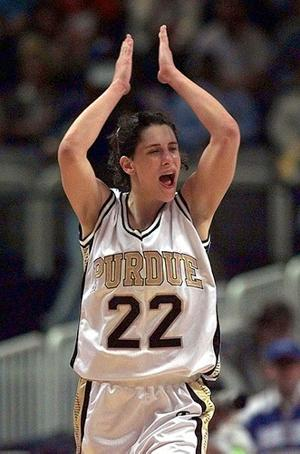person: (57, 24, 242, 448)
